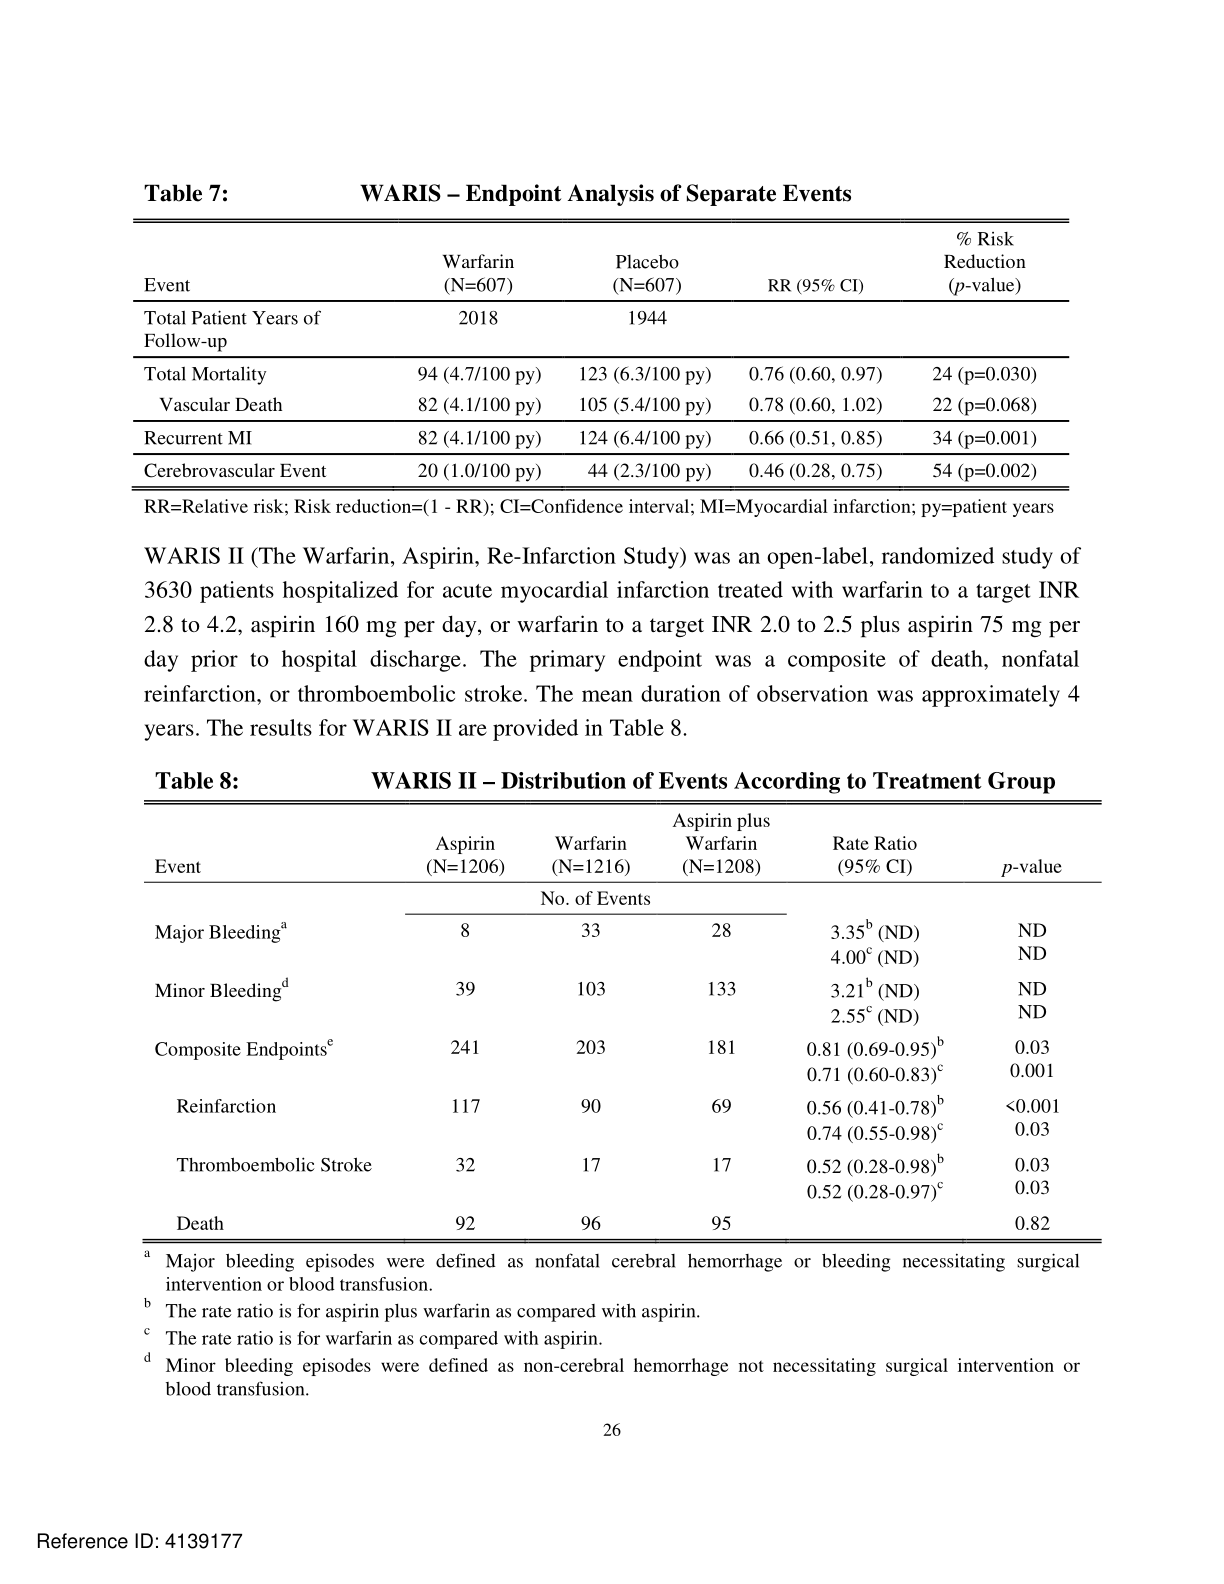partial_lined: (130, 217, 1070, 491)
partial_lined_merged_cells: (140, 798, 1103, 1245)
